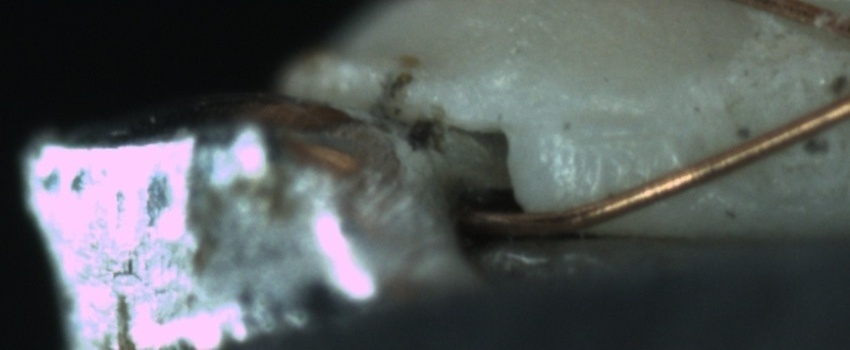DL: (544, 94, 673, 159)
